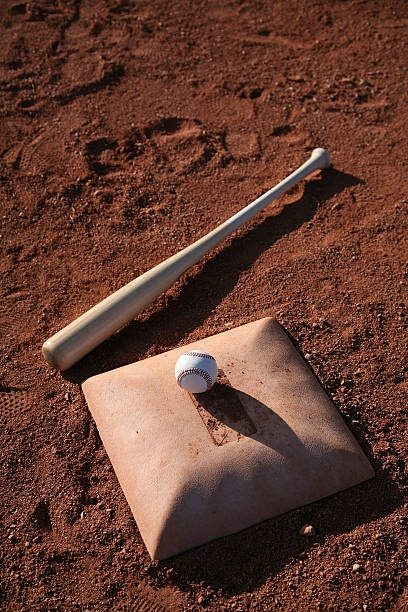bita: (35, 151, 323, 375)
